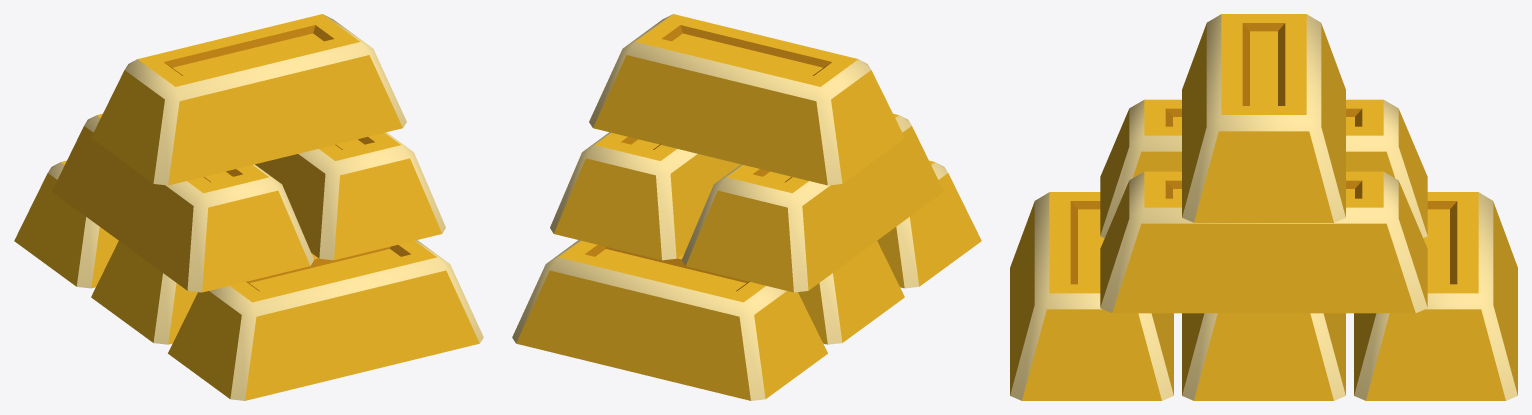
File: GoldStack.fbx
3 views of the same model, side by side, from view 1: azimuth 30°, elevation 25°; view 2: azimuth 150°, elevation 25°; view 3: azimuth 270°, elevation 25° (orthographic). The views are drawn at different scales.
Parts seen in each view (by area): view 1: GoldStack; view 2: GoldStack; view 3: GoldStack.
Part boxes in pixels (bbox=[...]): GoldStack: bbox=[14, 14, 483, 400]; GoldStack: bbox=[512, 14, 981, 400]; GoldStack: bbox=[1010, 14, 1517, 400].
Bounding box in the file's own units: 2.04 × 1.8 × 3.1.
1 material, 1 textured.
